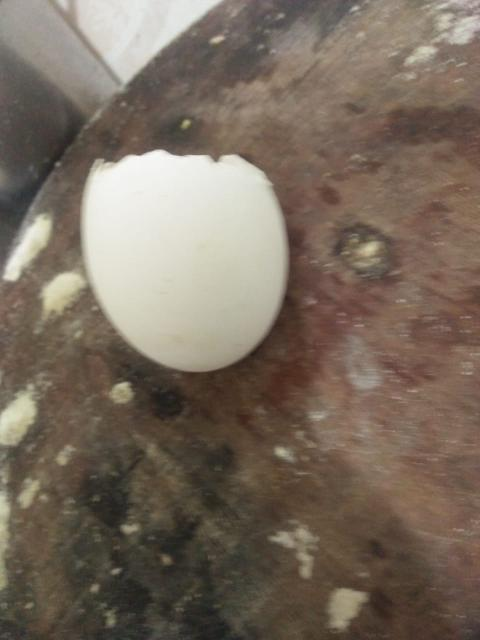Roto: (83, 151, 287, 372)
